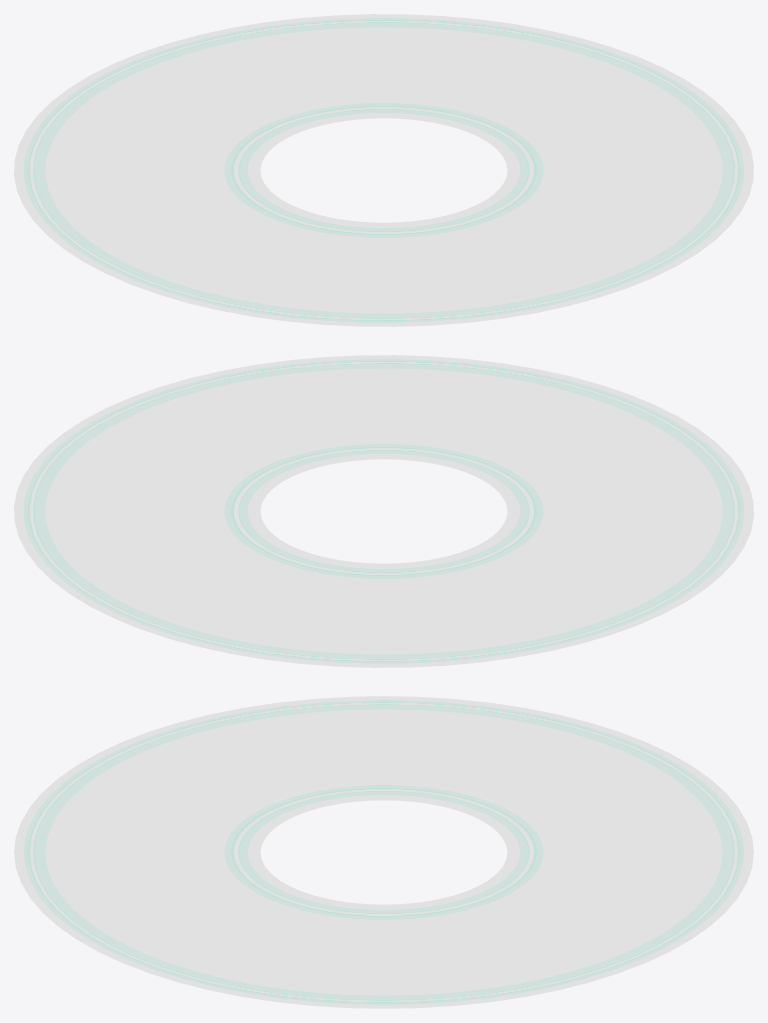
File: FX_WaterRing.fbx
The picture shows the model from 3 angles, top to bottom: view 1: azimuth 30°, elevation 25°; view 2: azimuth 150°, elevation 25°; view 3: azimuth 270°, elevation 25°; orthographic projection.
Parts seen in each view (by area): view 1: WaterRingMesh; view 2: WaterRingMesh; view 3: WaterRingMesh.
Part boxes in pixels (bbox=[...]): WaterRingMesh: bbox=[14, 14, 753, 326]; WaterRingMesh: bbox=[14, 355, 753, 667]; WaterRingMesh: bbox=[14, 696, 753, 1008].
Bounding box in the file's own units: 15 × 5.96e-07 × 15.
